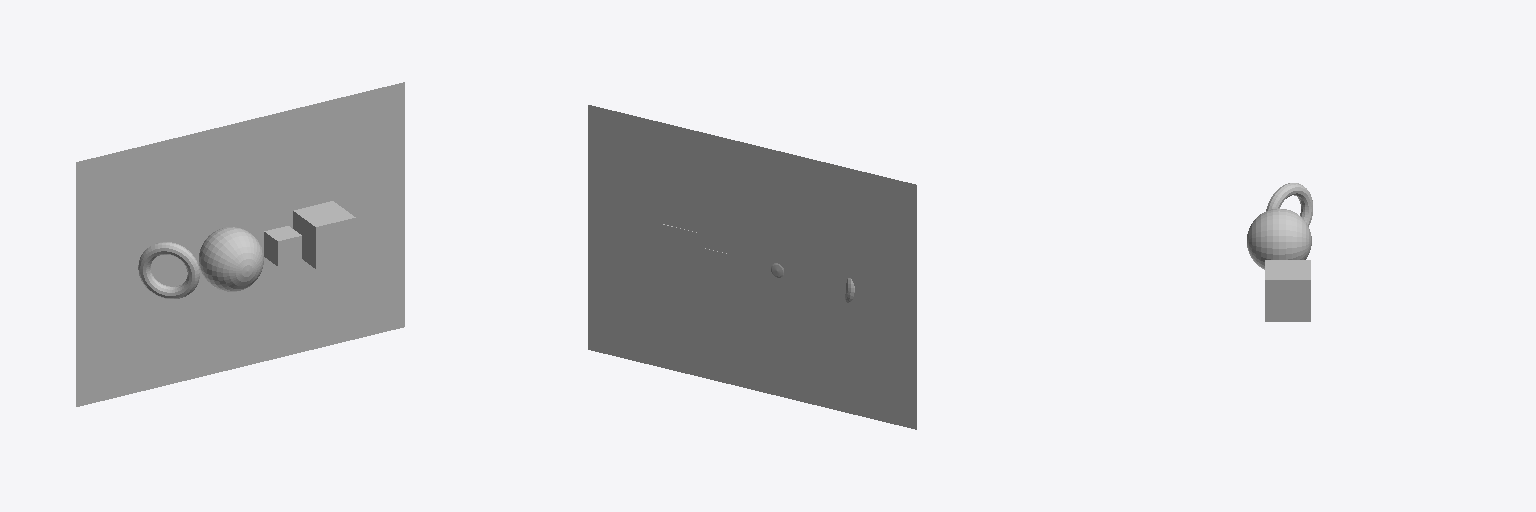
The model's file is ssao.obj.
The picture shows the model from 3 angles: view 1: azimuth 30°, elevation 25°; view 2: azimuth 150°, elevation 25°; view 3: azimuth 270°, elevation 25°; orthographic projection.
Visible parts, largest first — view 1: Plane.001, Cube.001, Sphere, Torus, Cube.002; view 2: Plane.001, Cube.001, Cube.002; view 3: Sphere, Cube.001, Torus.
Part boxes in pixels (x1,y1,x2,y2): Plane.001: (76,82,404,406); Cube.001: (293,201,355,268); Sphere: (199,227,263,291); Torus: (138,242,199,298); Cube.002: (264,226,301,266); Plane.001: (588,105,916,429); Cube.001: (660,224,699,274); Cube.002: (704,248,728,278); Sphere: (1247,208,1311,269); Cube.001: (1265,260,1310,321); Torus: (1266,183,1312,226).
Bounding box in the file's own units: 45.4 × 32.27 × 7.93.